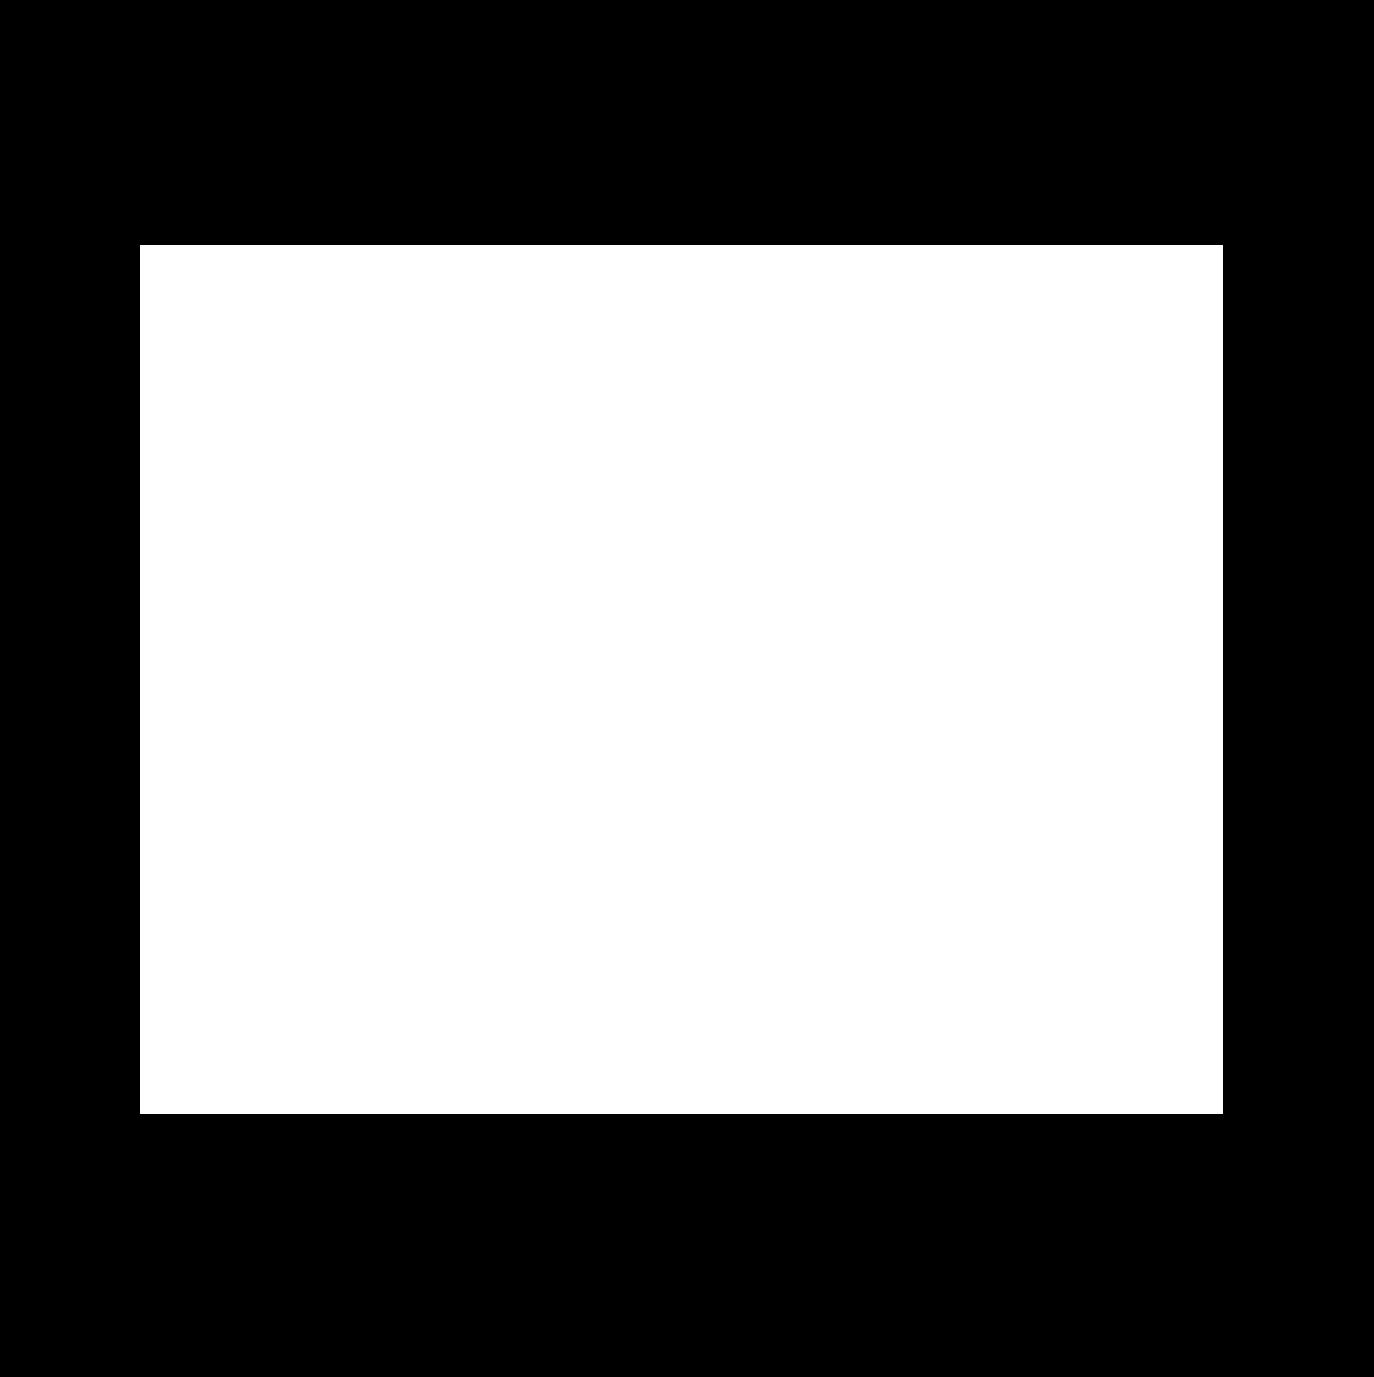table: (140, 245, 1223, 1114)
